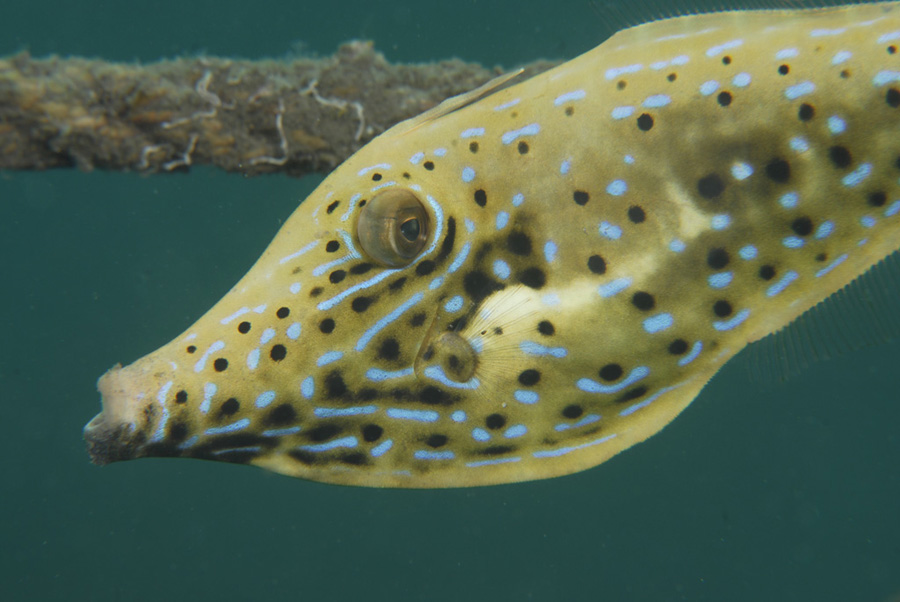Aluterus_scriptus: (79, 1, 900, 506)
